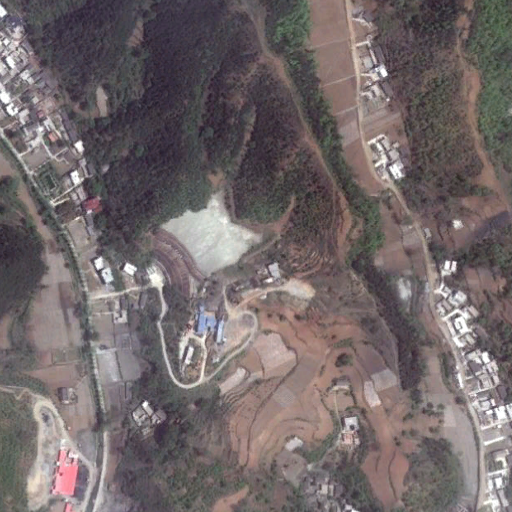tp: (141, 192, 262, 289)
